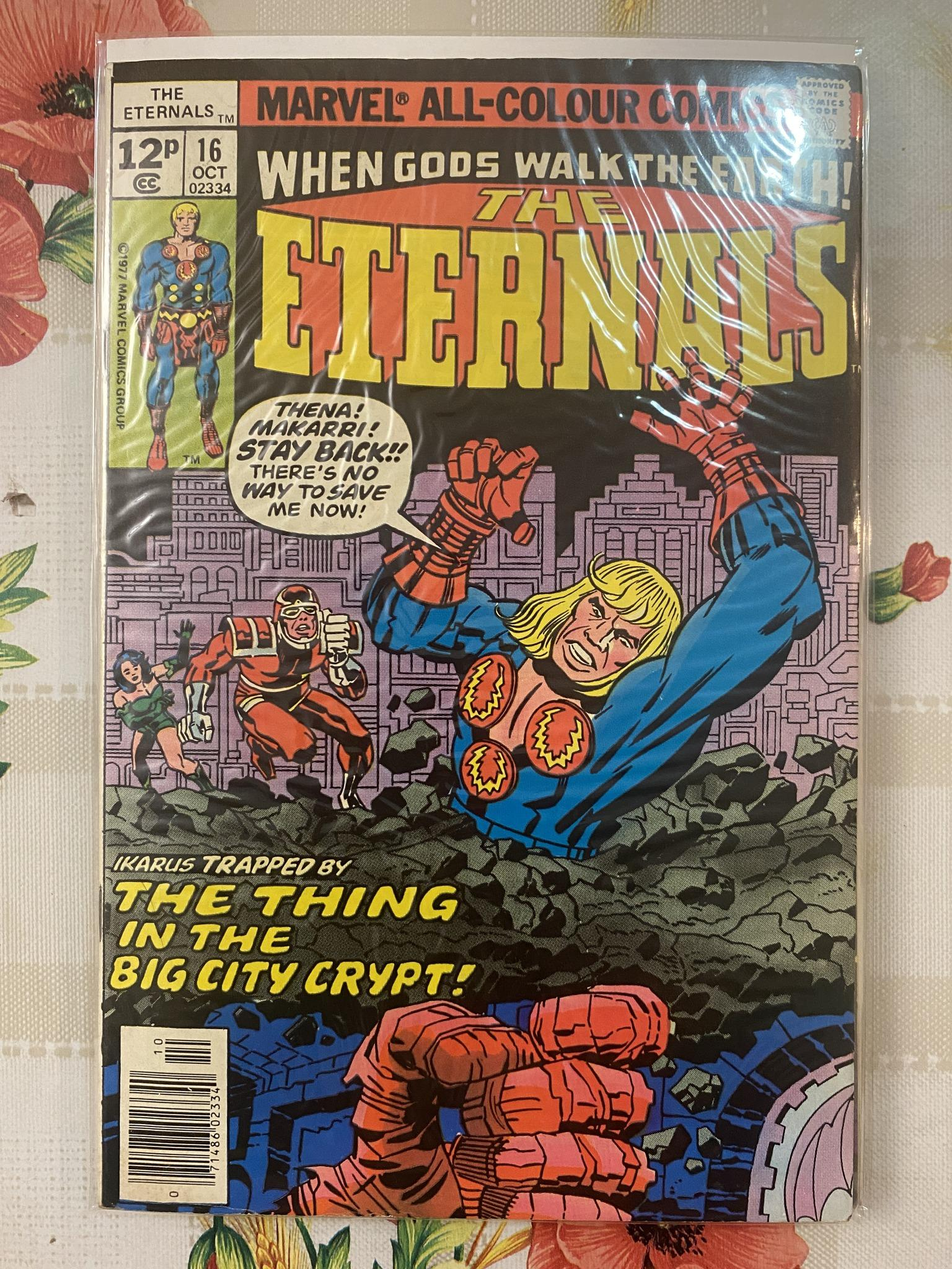comic: (94, 39, 864, 1221)
